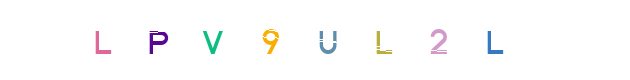2: (346, 0, 426, 80)
9: (230, 0, 310, 80)
L: (60, 0, 140, 80), (323, 0, 403, 80), (347, 0, 427, 80)
P: (117, 0, 197, 80)
U: (275, 0, 355, 80)
V: (172, 0, 252, 80)
